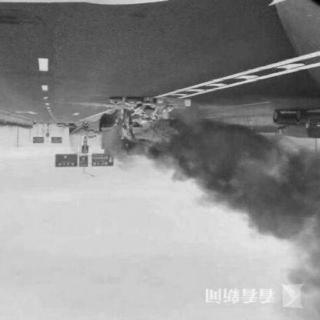Fire: (104, 98, 176, 146)
